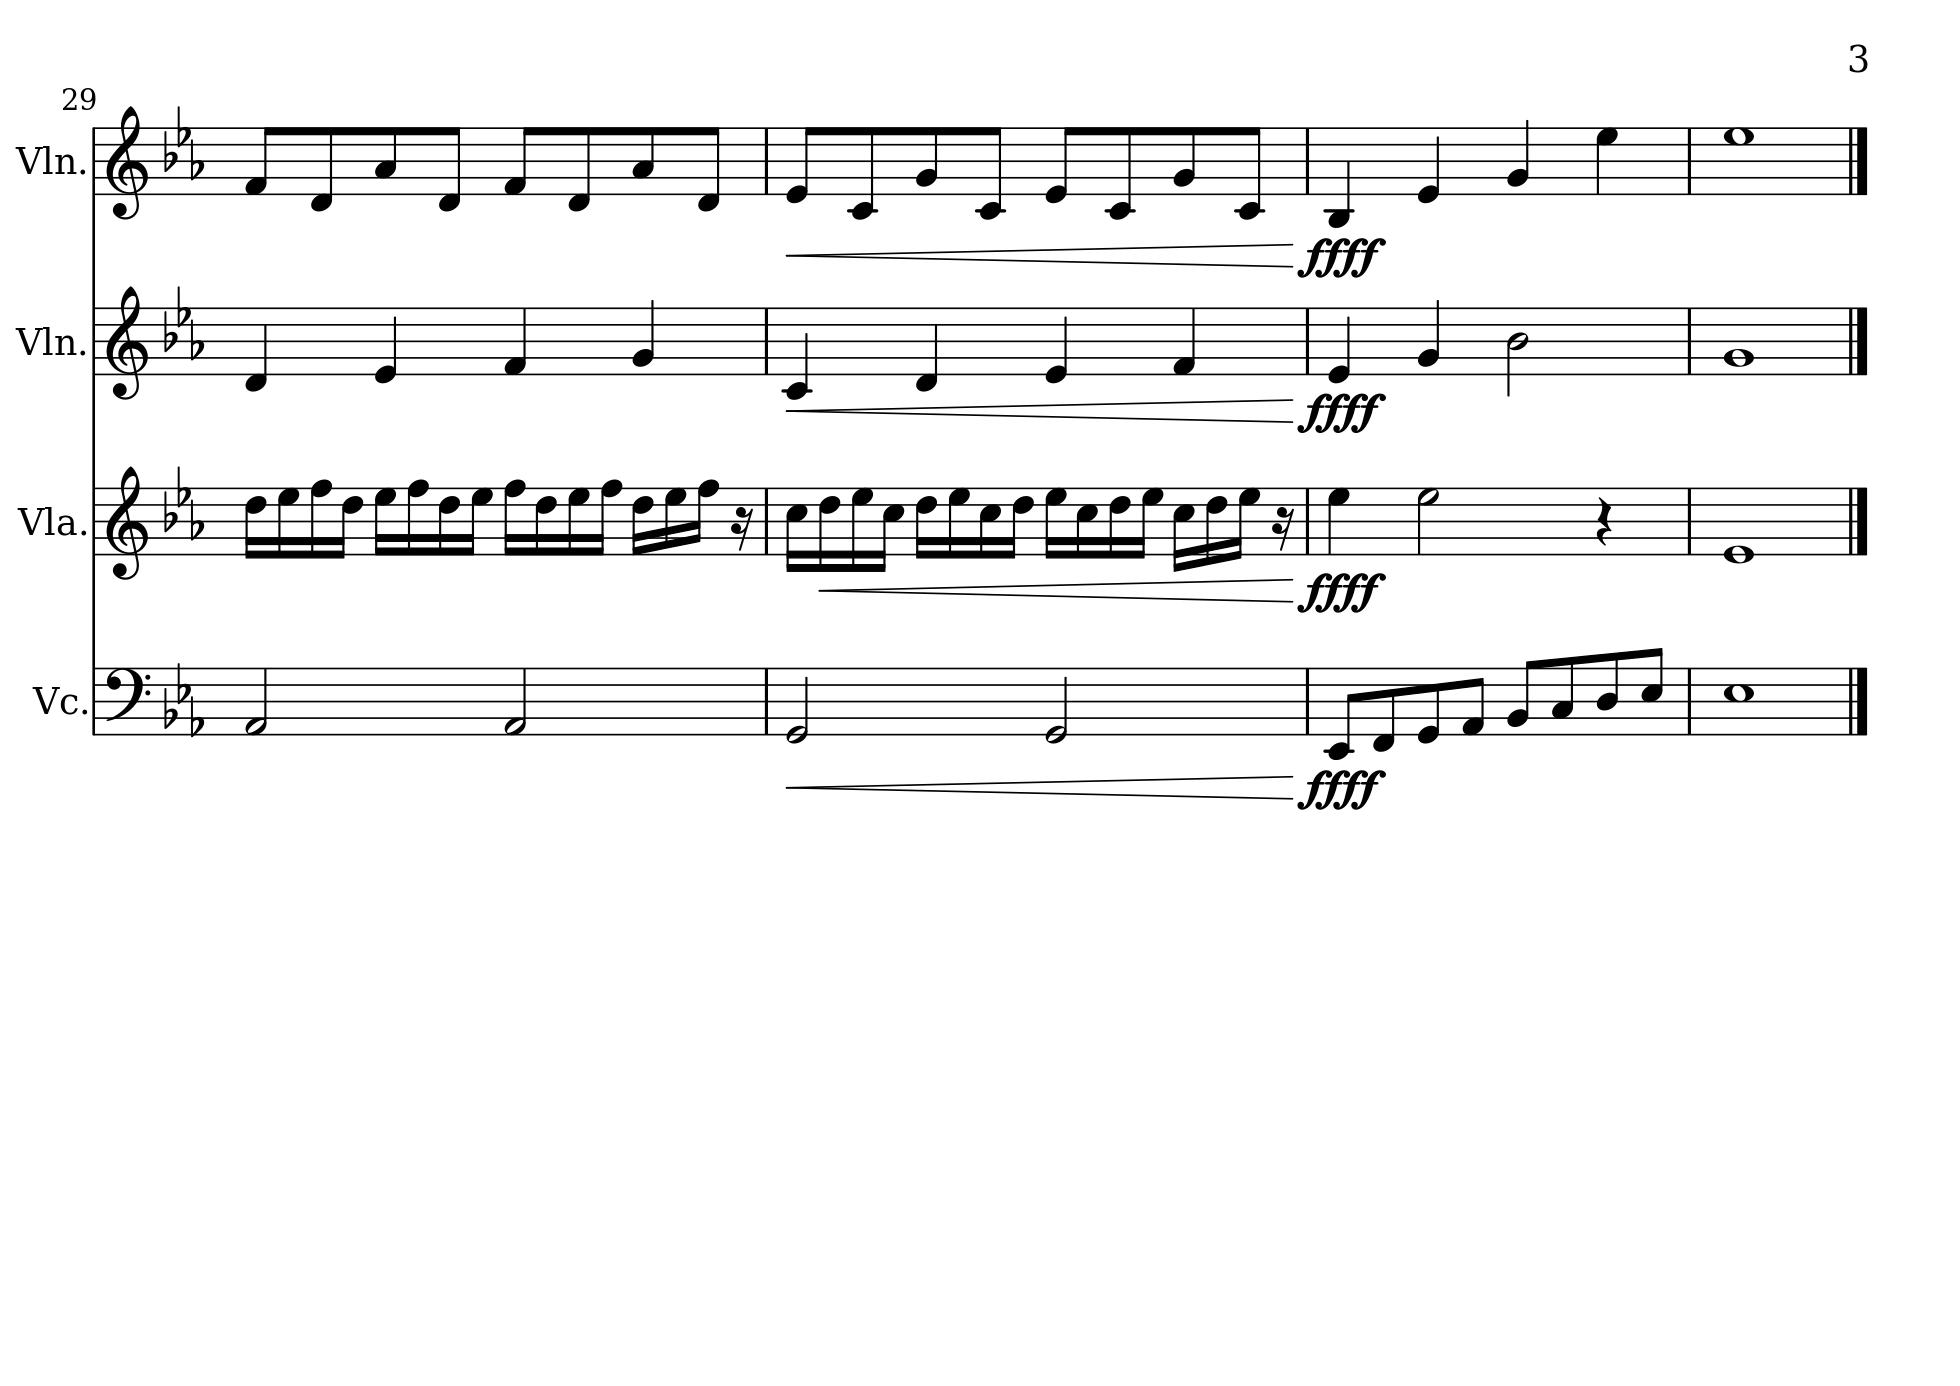16_5: (874, 486, 904, 573), (783, 486, 808, 574), (1171, 484, 1195, 571), (976, 484, 1002, 561), (1074, 484, 1099, 561)
16_6: (334, 484, 364, 559), (1005, 484, 1035, 559), (817, 484, 841, 574), (243, 484, 268, 561), (1204, 484, 1228, 565), (1107, 484, 1132, 559), (913, 484, 937, 561), (436, 484, 460, 556), (534, 484, 558, 556), (630, 484, 654, 556)
16_7: (1230, 484, 1260, 561), (1134, 484, 1164, 559), (849, 483, 873, 574), (463, 484, 493, 556), (274, 484, 300, 559), (372, 484, 397, 556), (946, 484, 970, 561), (1044, 484, 1068, 561), (565, 484, 589, 556), (661, 484, 685, 556)
16_8: (592, 477, 622, 556), (688, 478, 718, 556), (307, 477, 333, 559), (405, 477, 430, 558), (502, 477, 526, 558)
1_0: (1722, 483, 1756, 565)
1_2: (1720, 304, 1758, 376)
1_5: (1722, 664, 1756, 736)
1_7: (1722, 124, 1756, 196)
2: (60, 85, 78, 112)
2_0: (783, 664, 811, 745), (1044, 664, 1071, 745)
2_1: (502, 666, 529, 738), (243, 666, 270, 736)
2_4: (1504, 306, 1530, 397)
2_7: (1414, 486, 1440, 556)
3: (1848, 40, 1869, 73)
4_-1: (913, 304, 940, 394), (243, 304, 270, 393)
4_-2: (783, 304, 811, 400)
4_-3: (1324, 123, 1354, 229)
4_0: (1044, 304, 1071, 385), (1326, 304, 1353, 385), (1416, 124, 1441, 205), (373, 304, 399, 385)
4_1: (1170, 304, 1197, 376), (502, 306, 529, 376)
4_2: (1416, 298, 1443, 376), (1506, 117, 1531, 196), (631, 297, 657, 376)
4_7: (1326, 486, 1353, 556), (1594, 124, 1620, 196)
8_-1: (565, 124, 594, 214), (694, 124, 723, 214), (307, 124, 336, 213), (436, 124, 463, 214), (1371, 664, 1398, 753)
8_-2: (1323, 664, 1360, 760), (1104, 124, 1137, 222), (975, 124, 1006, 222), (847, 124, 877, 222), (1236, 124, 1266, 220)
8_0: (784, 124, 817, 204), (1044, 124, 1077, 204), (1416, 664, 1443, 745)
8_1: (241, 124, 276, 196), (501, 124, 535, 196), (1461, 664, 1488, 738)
8_2: (1506, 658, 1537, 736), (913, 124, 939, 196), (1173, 124, 1197, 196)
8_3: (1551, 655, 1576, 736), (373, 124, 399, 196), (630, 124, 655, 196)
8_4: (1596, 649, 1623, 736)
8_5: (1641, 645, 1665, 736)
9: (79, 84, 97, 111)
Crescendo_hairpin: (787, 240, 1296, 271), (787, 396, 1296, 426), (792, 774, 1297, 804), (820, 579, 1296, 607)
E_F: (162, 103, 205, 181), (160, 661, 205, 736), (162, 463, 204, 541), (163, 283, 204, 360)
Fclef: (103, 664, 151, 736)
Final_barline: (1845, 126, 1872, 195), (1845, 306, 1870, 375), (1845, 486, 1870, 553), (1845, 666, 1870, 733)
Gclef: (103, 103, 148, 222), (103, 283, 148, 402), (103, 463, 148, 580)
Rests16: (729, 505, 754, 552), (1272, 504, 1296, 552)
Rests4: (1596, 493, 1615, 547)
Single_barline: (1680, 127, 1699, 193), (757, 667, 777, 733), (757, 127, 775, 193), (757, 487, 775, 553), (759, 307, 775, 373), (1681, 307, 1698, 373), (1300, 487, 1317, 553), (1681, 487, 1698, 553), (87, 487, 102, 556), (87, 307, 102, 375), (1683, 667, 1698, 733), (87, 127, 100, 195), (87, 667, 100, 735), (1302, 307, 1314, 375)
Vc: (24, 679, 82, 718)
Vla: (16, 499, 78, 543)
Vln: (15, 319, 76, 364), (15, 139, 78, 181)
ffff: (1297, 763, 1387, 814), (1297, 388, 1386, 436), (1299, 232, 1386, 279), (1299, 568, 1386, 615)
